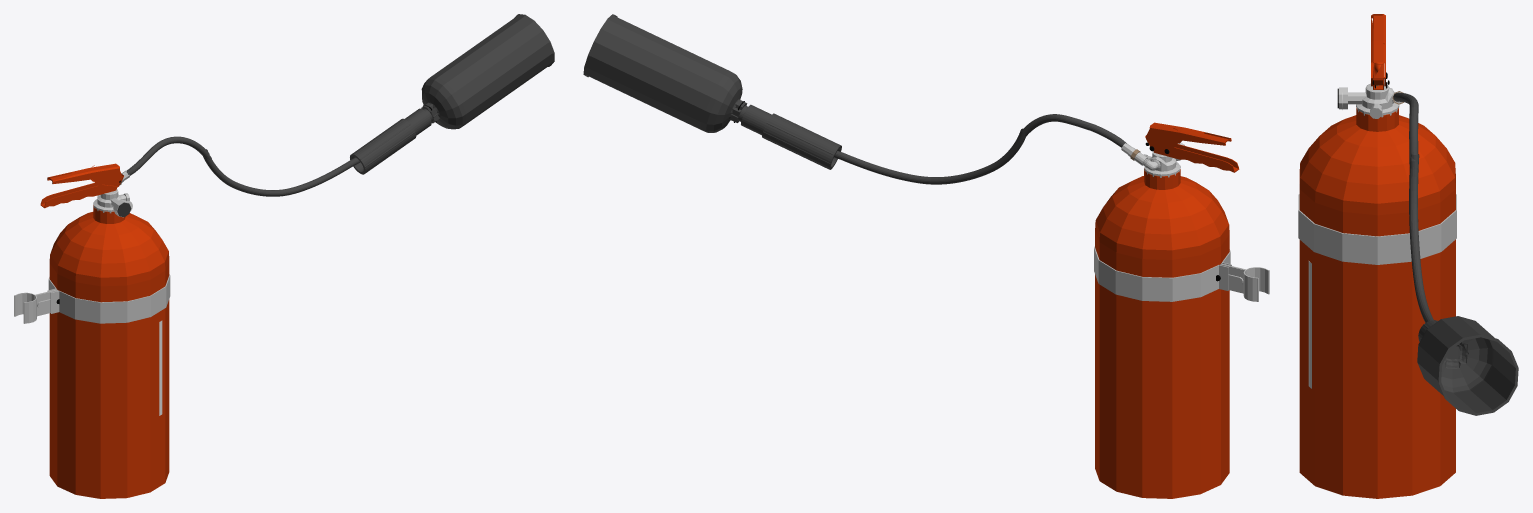
3 views of the same model, side by side, from view 1: azimuth 30°, elevation 25°; view 2: azimuth 150°, elevation 25°; view 3: azimuth 270°, elevation 25° (orthographic). The views are drawn at different scales.
Parts seen in each view (by area): view 1: Base_01, Base_04, Base_04.002, Base_02; view 2: Base_01, Base_04, Base_04.002, Base_02; view 3: Base_01, Base_04, Base_04.002, Base_02, Base_03.
Part boxes in pixels (x1,y1,x2,y2): Base_01: [14, 163, 170, 498]; Base_04: [421, 14, 554, 129]; Base_04.002: [203, 118, 416, 196]; Base_02: [126, 136, 211, 175]; Base_01: [1094, 122, 1269, 498]; Base_04: [583, 14, 747, 132]; Base_04.002: [762, 113, 1025, 184]; Base_02: [1021, 114, 1126, 147]; Base_01: [1298, 14, 1456, 498]; Base_04: [1417, 316, 1518, 415]; Base_04.002: [1409, 154, 1437, 341]; Base_02: [1393, 92, 1418, 167]; Base_03: [1308, 72, 1389, 388].
Bounding box in the file's own units: 841 × 457 × 214.
